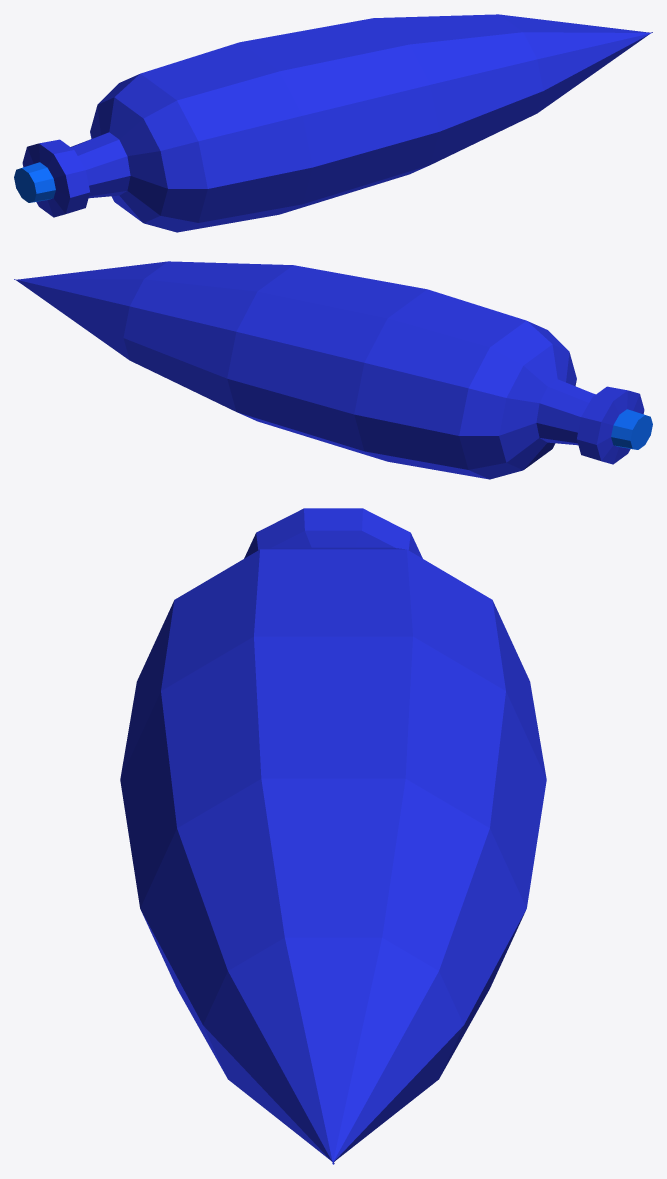
File: DownfallPotion.fbx
3 views of the same model, one above another, from view 1: azimuth 30°, elevation 25°; view 2: azimuth 150°, elevation 25°; view 3: azimuth 270°, elevation 25° (orthographic). The views are drawn at different scales.
Visible parts, largest first — view 1: downfall; view 2: downfall; view 3: downfall.
Boxes of the visible parts, x1=… form: downfall: x1=14, y1=14, x2=652, y2=232; downfall: x1=14, y1=261, x2=652, y2=479; downfall: x1=120, y1=508, x2=546, y2=1164.
Size of the model in its own units: 302 by 65.82 by 88.77.
